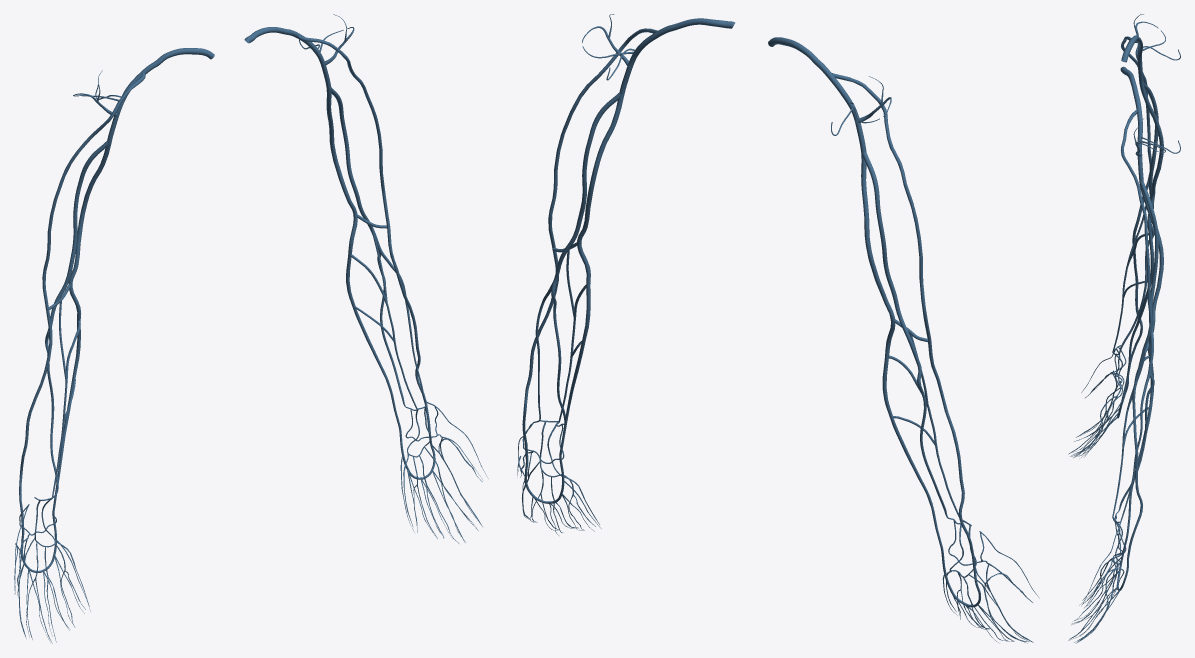
Rendered from venous-upper-limb-mobile.glb.
3 renders of one model, left to right at view 1: azimuth 30°, elevation 25°; view 2: azimuth 150°, elevation 25°; view 3: azimuth 270°, elevation 25°, orthographic. The views are drawn at different scales.
Visible parts, largest first — view 1: za.cephalic-vein-r, za.cephalic-vein-l, za.basilic-vein-l, za.basilic-vein-r, za.palmar-digital-veins-l, za.palmar-digital-veins-r, za.brachial-veins-r, za.dorsal-digital-veins-of-hand-r, za.dorsal-digital-veins-of-hand-l, za.brachial-veins-l; view 2: za.cephalic-vein-r, za.basilic-vein-r, za.cephalic-vein-l, za.basilic-vein-l, za.brachial-veins-r, za.brachial-veins-l, za.palmar-digital-veins-r, za.palmar-digital-veins-l; view 3: za.cephalic-vein-l, za.basilic-vein-r, za.basilic-vein-l, za.cephalic-vein-r, za.palmar-digital-veins-l, za.brachial-veins-l, za.palmar-digital-veins-r, za.dorsal-digital-veins-of-hand-l, za.brachial-veins-r, za.dorsal-digital-veins-of-hand-r, za.axillary-vein-l, za.ulnar-veins-l (+8 smaller).
Boxes of the visible parts, x1,y1,x2,y2 form: za.cephalic-vein-r: (19,73,145,529); za.cephalic-vein-l: (298,35,430,430); za.basilic-vein-l: (326,88,400,427); za.basilic-vein-r: (53,142,111,511); za.palmar-digital-veins-l: (403,434,482,543); za.palmar-digital-veins-r: (17,534,89,643); za.brachial-veins-r: (50,141,108,326); za.dorsal-digital-veins-of-hand-r: (14,504,90,640); za.dorsal-digital-veins-of-hand-l: (400,405,488,541); za.brachial-veins-l: (331,87,380,248); za.cephalic-vein-r: (832,73,975,568); za.basilic-vein-r: (861,153,942,547); za.cephalic-vein-l: (522,28,657,458); za.basilic-vein-l: (559,94,624,454); za.brachial-veins-r: (862,152,920,365); za.brachial-veins-l: (555,92,620,277); za.palmar-digital-veins-r: (946,560,1033,642); za.palmar-digital-veins-l: (520,450,599,532); za.cephalic-vein-l: (1120,109,1152,556); za.basilic-vein-r: (1127,83,1163,376); za.basilic-vein-l: (1127,182,1163,532); za.cephalic-vein-r: (1121,36,1151,372); za.palmar-digital-veins-l: (1068,555,1120,643); za.brachial-veins-l: (1140,181,1158,368); za.palmar-digital-veins-r: (1068,370,1119,457); za.dorsal-digital-veins-of-hand-l: (1069,529,1124,641); za.brachial-veins-r: (1143,82,1158,208); za.dorsal-digital-veins-of-hand-r: (1072,346,1124,457); za.axillary-vein-l: (1134,97,1143,182); za.ulnar-veins-l: (1115,369,1154,519).
Size of the model in its own units: 0.6628 by 0.7098 by 0.1481.
